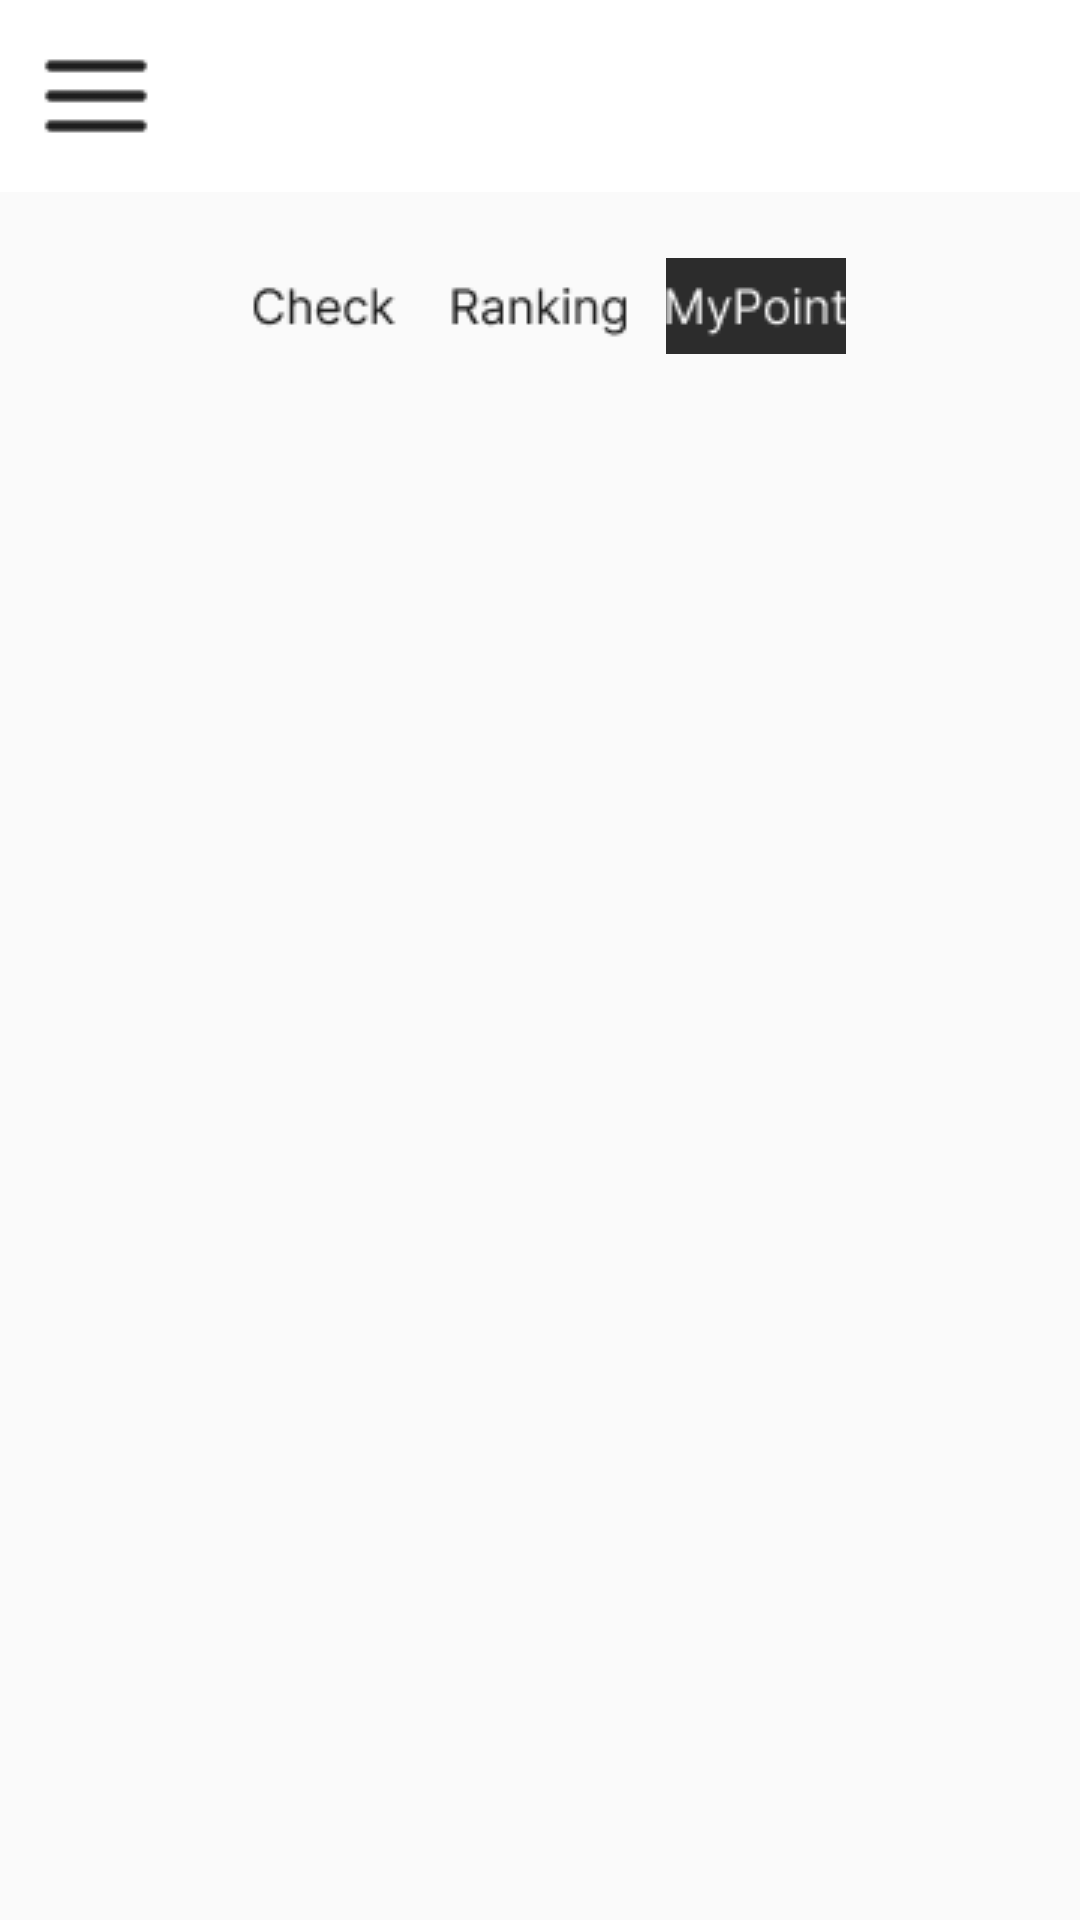

Where to tap for icons on this 1080*1920 app screen, as point (x, y):
Menu Button: point (96, 96)
